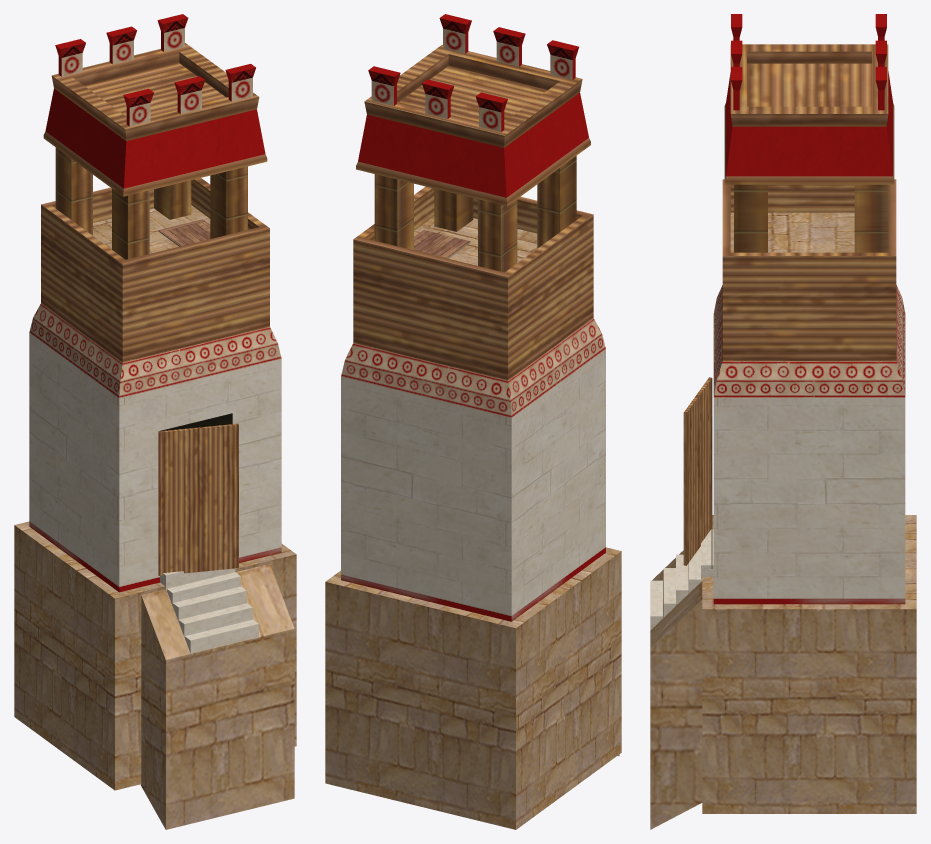
The model's file is wood_tower.dae.
The picture shows the model from 3 angles, left to right: view 1: azimuth 30°, elevation 25°; view 2: azimuth 150°, elevation 25°; view 3: azimuth 270°, elevation 25°; orthographic projection. The views are drawn at different scales.
Parts seen in each view (by area): view 1: tower_wood; view 2: tower_wood; view 3: tower_wood.
Part boxes in pixels (x1=…): tower_wood: x1=14, y1=14, x2=296, y2=829; tower_wood: x1=325, y1=14, x2=621, y2=829; tower_wood: x1=650, y1=14, x2=916, y2=829.
Bounding box in the file's own units: 5.84 × 6.97 × 21.63.
Materials: 1 (1 with a texture image).
